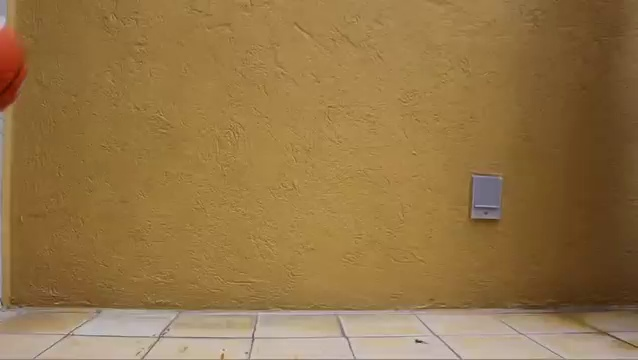ball: (1, 20, 30, 115)
